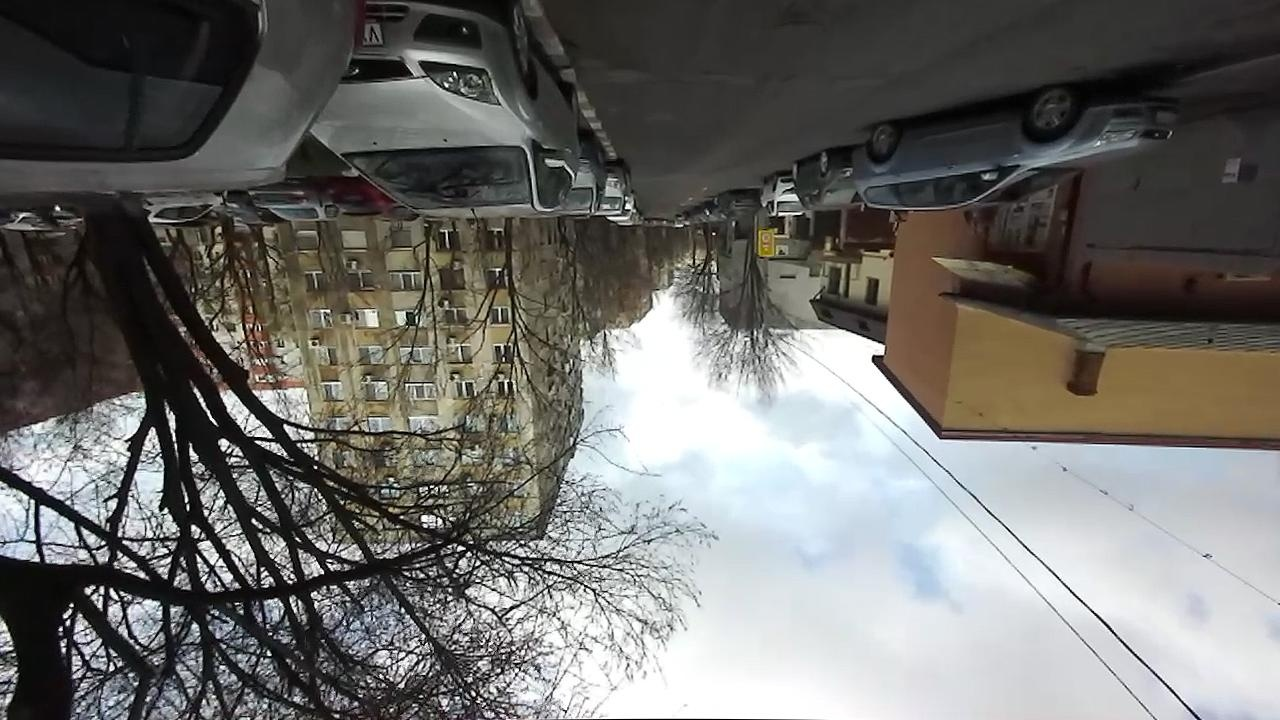pothole: (771, 0, 836, 32), (560, 37, 577, 51)
